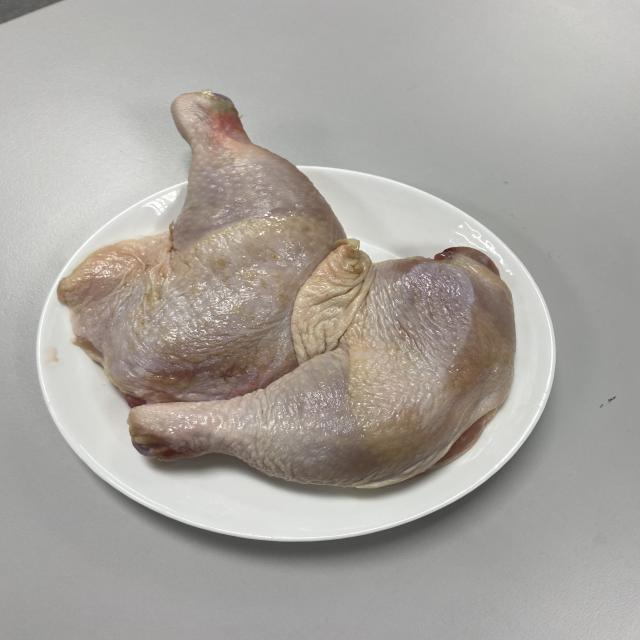quater: (134, 256, 554, 492), (65, 93, 342, 372)
